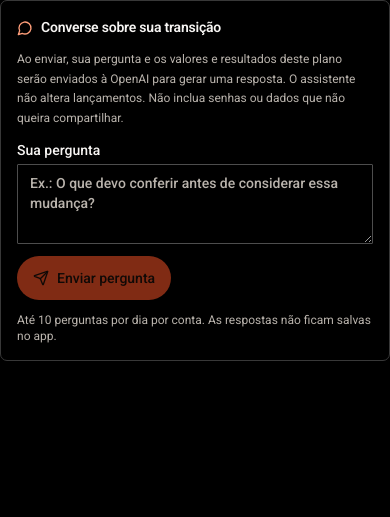
só envia agregados e pergunta após ação explícita, sem gravar dados
This screenshot has width=390, height=517.
Step 1. Type "O que devo verificar?" into the text box labelled "Sua pergunta" → (195, 204), box [17,164,373,244]
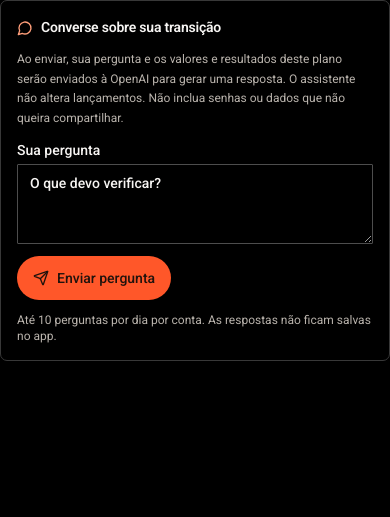
Step 2. Click the button "Enviar pergunta" → (94, 278), box [17,256,171,300]
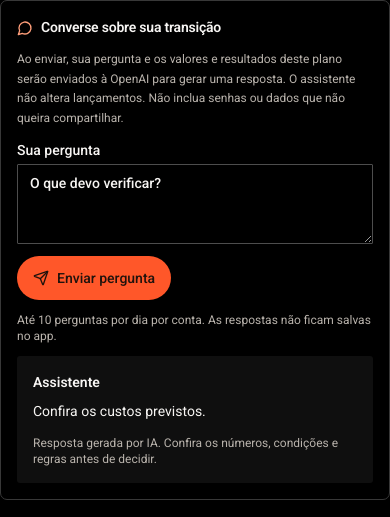
Expected: the text "Confira os custos previstos." is shown, [33,403,206,419]
